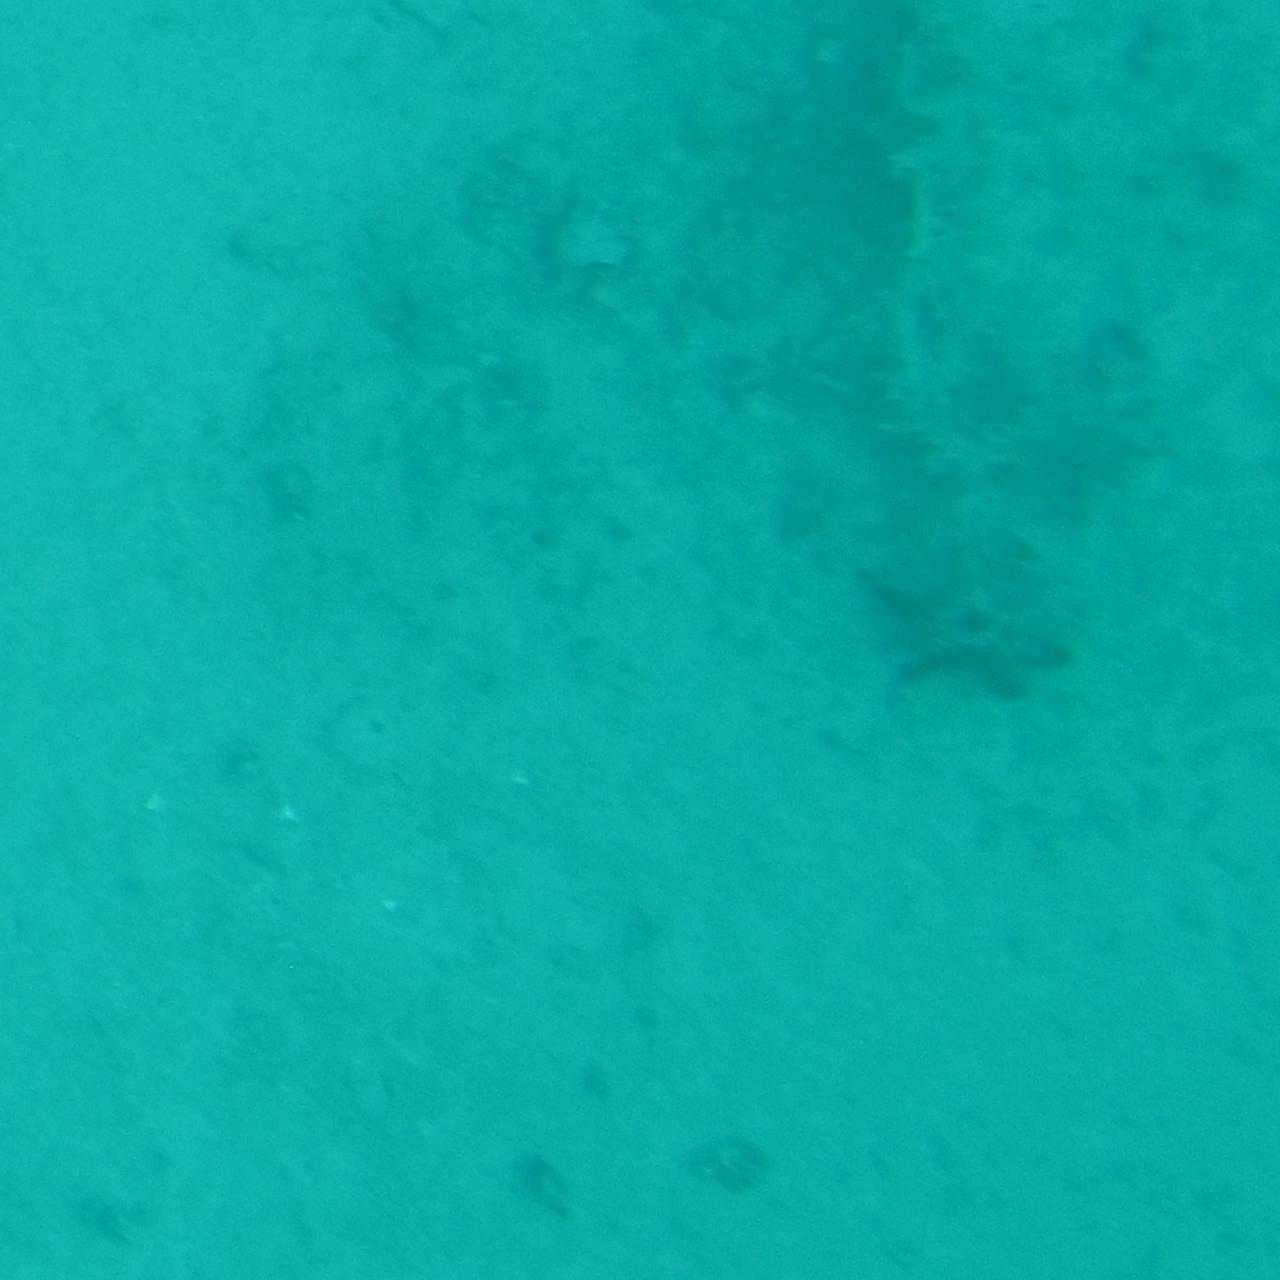Asteroidea: (833, 556, 1092, 724)
